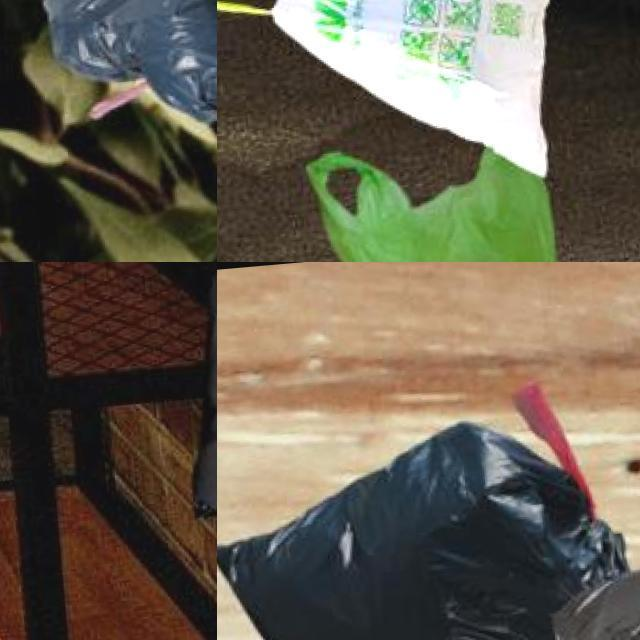waste: (217, 408, 640, 640), (273, 0, 599, 191), (308, 129, 583, 262), (110, 0, 217, 124), (0, 0, 191, 69)
